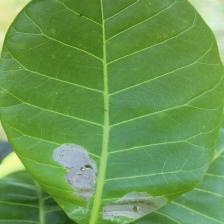leaf miner: (51, 138, 99, 211), (100, 184, 175, 223)
